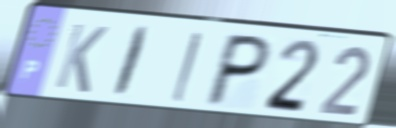2: (263, 37, 323, 117), (315, 44, 373, 119)
I: (109, 23, 153, 100), (169, 30, 205, 106)
K: (52, 20, 111, 96)
P: (201, 31, 275, 109)
